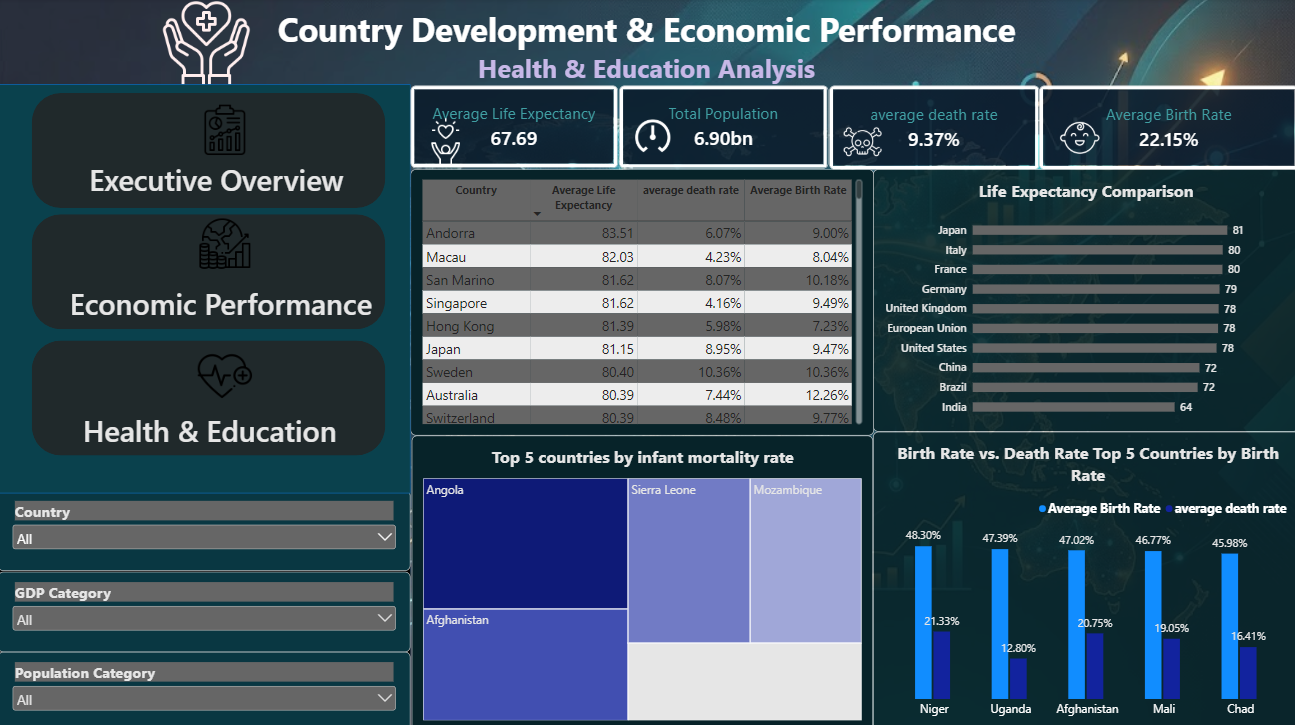

The dashboard page shown, as its layout file describes it:
{"tool":"powerbi","page":{"name":"Health & Education Analysis","canvas":[1920,1080],"ordinal":2},"visuals":[{"type":"shape","box":[0,127.5,607.5,602.5],"z":0,"group":"g5"},{"type":"cardVisual","fields":{"Data":["DAX.Average Life Expectancy"]},"box":[608.3,128,305.7,121.6],"z":0,"group":"g6"},{"type":"cardVisual","fields":{"Data":["DAX.Total Population"]},"box":[914,128,307.7,122.6],"z":0,"group":"g2"},{"type":"cardVisual","fields":{"Data":["DAX.average death rate"]},"box":[1224.6,128,309.4,124],"z":0,"group":"g3"},{"type":"cardVisual","fields":{"Data":["DAX.Average Birth Rate"]},"box":[1532.6,128.4,382,124],"z":0,"group":"g1"},{"type":"slicer","fields":{"Values":["countries.Country"]},"box":[0,724.5,607.3,118.7],"z":0,"group":"g4"},{"type":"textbox","box":[0,12,1918,116],"z":1000},{"type":"shape","box":[49.9,139.8,520.5,169.3],"z":1000,"group":"g5"},{"type":"image","box":[582,174.5,155.1,75.5],"z":1000,"group":"g6"},{"type":"image","box":[1527.5,175.6,130,58.8],"z":1000,"group":"g1"},{"type":"image","box":[920.6,176.4,84.3,51.6],"z":1000,"group":"g2"},{"type":"image","box":[1202,183.9,142.3,55.3],"z":1000,"group":"g3"},{"type":"slicer","fields":{"Values":["countries.Population Category"]},"box":[0,962,607.3,118.7],"z":1000,"group":"g4"},{"type":"group","id":"g1","title":"Group 2","box":[1527.5,128.4,387.1,124],"z":2000},{"type":"textbox","box":[133.7,238.7,396.4,75],"z":2000,"group":"g5"},{"type":"slicer","fields":{"Values":["countries.GDP Category"]},"box":[0,843.2,607.3,118.7],"z":2000,"group":"g4"},{"type":"shape","box":[49.9,319,520.5,169.3],"z":3000,"group":"g5"},{"type":"group","id":"g2","title":"Group 3","box":[914,128,308,124],"z":4000},{"type":"shape","box":[49.9,504.4,520.5,169.3],"z":4000,"group":"g5"},{"type":"group","id":"g3","title":"Group 2","box":[1202,128,332,124],"z":5000},{"type":"image","title":"Economic Performance Analysis","box":[229.9,154.8,207.7,79.6],"z":5000,"group":"g5"},{"type":"clusteredBarChart","title":"Life Expectancy Comparison","fields":{"Category":["countries.Country"],"Y":["DAX.Average Life Expectancy"]},"box":[1288,252,626,386],"z":6000},{"type":"image","title":"Economic Performance Analysis","box":[229.9,518.2,207.7,79.6],"z":6000,"group":"g5"},{"type":"textbox","box":[102.8,419.3,461.8,74.1],"z":7000,"group":"g5"},{"type":"clusteredColumnChart","title":"Birth Rate vs. Death Rate Top 5 Countries by Birth Rate","fields":{"Category":["countries.Country"],"Y":["DAX.Average Birth Rate","DAX.average death rate"]},"box":[1288.5,638.1,631.9,442.5],"z":7000},{"type":"image","title":"Economic Performance Analysis","box":[229.9,323.5,207.7,79.6],"z":8000,"group":"g5"},{"type":"treemap","title":"Top 5 countries by infant mortality rate","fields":{"Group":["countries.Country"],"Values":["DAX.Average Infant Mortality"]},"box":[609.3,644.3,679.2,436.4],"z":8000},{"type":"tableEx","fields":{"Values":["countries.Country","DAX.Average Life Expectancy","DAX.average death rate","DAX.Average Birth Rate"]},"box":[608,252,682,392],"z":9000},{"type":"textbox","box":[124.3,608.7,417.5,87.5],"z":9000,"group":"g5"},{"type":"group","id":"g4","title":"Group 4","box":[0,724.5,607.2,356.1],"z":10000},{"type":"image","box":[120,0,375,137.5],"z":11000},{"type":"group","id":"g5","title":"Group 1","box":[0,127.5,607.5,602.5],"z":12000},{"type":"group","id":"g6","title":"Group 3","box":[582,128,332,122],"z":13001}]}

Visuals, with their boxes in screenshot pixels (x1, y1, x2, y2), scaled from the page's 1920x1080 canvas onto the 1295x725 screenshot:
shape: left=0, top=86, right=410, bottom=490
cardVisual - DAX.Average Life Expectancy: left=410, top=86, right=616, bottom=168
cardVisual - DAX.Total Population: left=616, top=86, right=824, bottom=168
cardVisual - DAX.average death rate: left=826, top=86, right=1035, bottom=169
cardVisual - DAX.Average Birth Rate: left=1034, top=86, right=1291, bottom=169
slicer - countries.Country: left=0, top=486, right=410, bottom=566
textbox: left=0, top=8, right=1294, bottom=86
shape: left=34, top=94, right=385, bottom=207
image: left=393, top=117, right=497, bottom=168
image: left=1030, top=118, right=1118, bottom=157
image: left=621, top=118, right=678, bottom=153
image: left=811, top=123, right=907, bottom=161
slicer - countries.Population Category: left=0, top=646, right=410, bottom=724
"Group 2" group: left=1030, top=86, right=1291, bottom=169
textbox: left=90, top=160, right=358, bottom=211
slicer - countries.GDP Category: left=0, top=566, right=410, bottom=646
shape: left=34, top=214, right=385, bottom=328
"Group 3" group: left=616, top=86, right=824, bottom=169
shape: left=34, top=339, right=385, bottom=452
"Group 2" group: left=811, top=86, right=1035, bottom=169
"Economic Performance Analysis" image: left=155, top=104, right=295, bottom=157
"Life Expectancy Comparison" clusteredBarChart: left=869, top=169, right=1291, bottom=428
"Economic Performance Analysis" image: left=155, top=348, right=295, bottom=401
textbox: left=69, top=281, right=381, bottom=331
"Birth Rate vs. Death Rate Top 5 Countries by Birth Rate" clusteredColumnChart: left=869, top=428, right=1294, bottom=724
"Economic Performance Analysis" image: left=155, top=217, right=295, bottom=271
"Top 5 countries by infant mortality rate" treemap: left=411, top=433, right=869, bottom=724
tableEx - countries.Country x DAX.Average Life Expectancy: left=410, top=169, right=870, bottom=432
textbox: left=84, top=409, right=365, bottom=467
"Group 4" group: left=0, top=486, right=410, bottom=724
image: left=81, top=0, right=334, bottom=92
"Group 1" group: left=0, top=86, right=410, bottom=490
"Group 3" group: left=393, top=86, right=616, bottom=168
